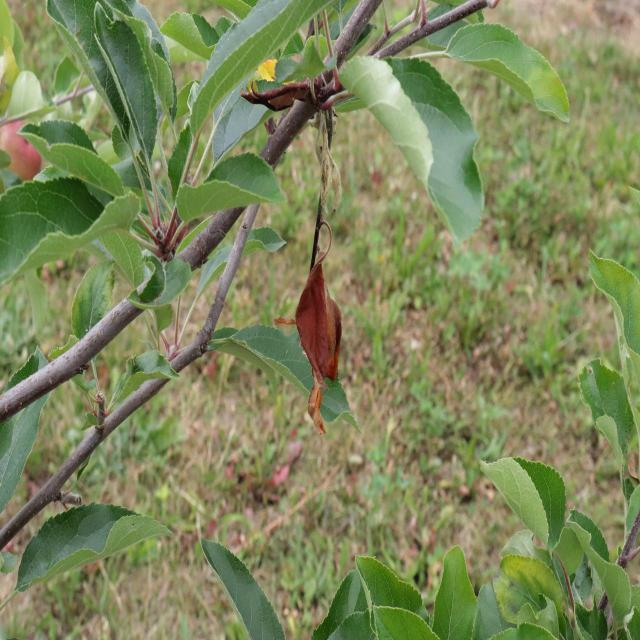-FireBlight-: (290, 237, 344, 432), (242, 74, 352, 110)
